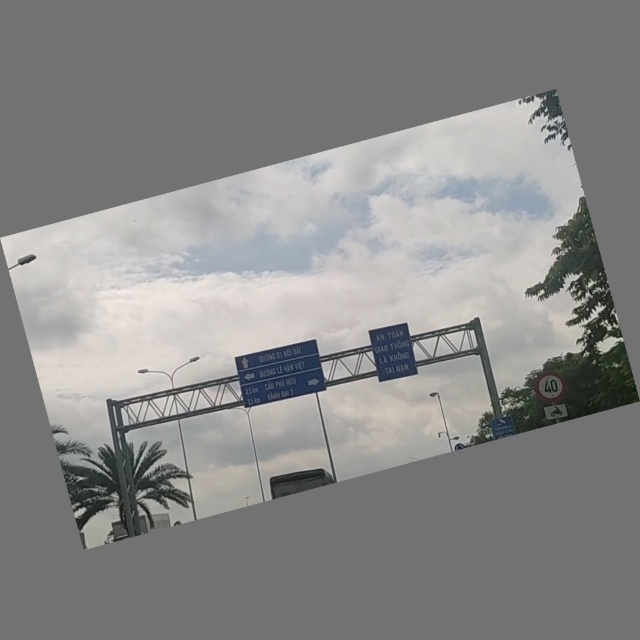P.127*40: (531, 367, 570, 407)
S.505a*Xe may: (542, 402, 571, 424)
